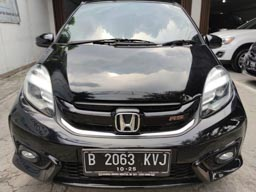plat: (84, 151, 169, 166)
